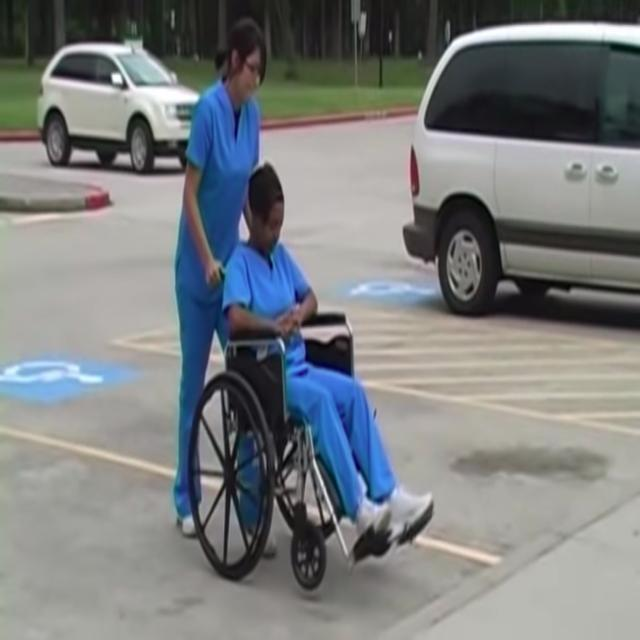wheelchairs: (188, 262, 382, 592)
